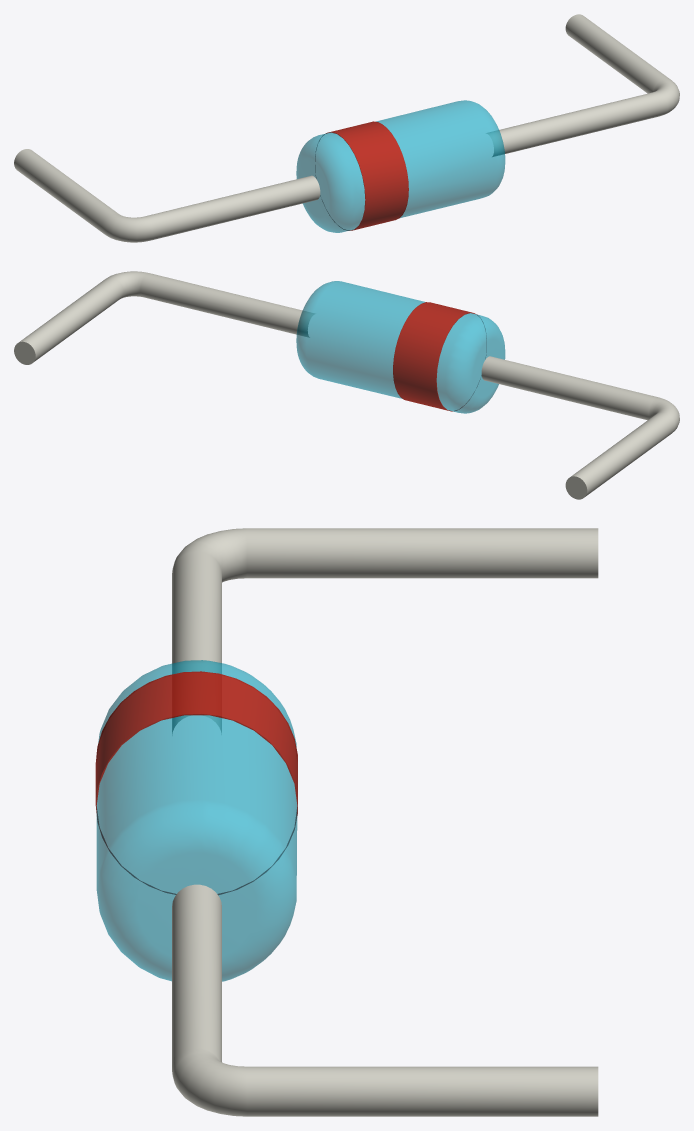
File: d-do-35-sod27-p12.70-h.glb
The picture shows the model from 3 angles, top to bottom: view 1: azimuth 30°, elevation 25°; view 2: azimuth 150°, elevation 25°; view 3: azimuth 270°, elevation 25°; orthographic projection. The views are drawn at different scales.
Parts seen in each view (by area): view 1: PIN-01, GLASS-13, LED-RED; view 2: PIN-01, GLASS-13, LED-RED; view 3: PIN-01, GLASS-13, LED-RED.
Boxes of the visible parts, x1,y1,x2,y2 form: PIN-01: (14,14,679,242); GLASS-13: (296,100,505,232); LED-RED: (315,121,408,230); PIN-01: (14,271,679,499); GLASS-13: (296,281,505,413); LED-RED: (393,302,486,411); PIN-01: (172,528,598,1116); GLASS-13: (96,660,297,981); LED-RED: (95,671,297,894).
Bounding box in the file's own units: 13.2 × 2.02 × 5.01.
